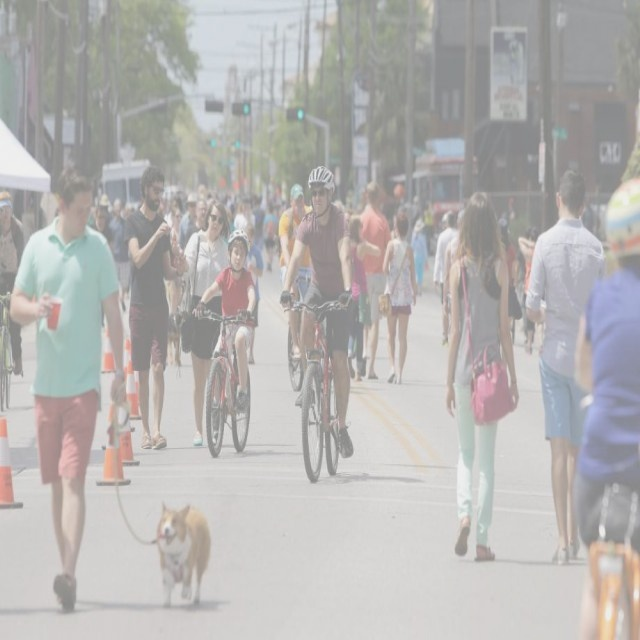pessoa: (7, 158, 128, 618), (520, 166, 611, 570), (573, 174, 639, 639), (441, 188, 522, 564), (276, 162, 356, 462), (122, 162, 187, 454), (170, 196, 238, 452), (190, 224, 258, 448), (375, 210, 418, 388), (358, 180, 392, 383), (277, 182, 314, 362), (345, 210, 383, 383), (0, 185, 27, 378), (496, 217, 522, 380), (432, 208, 460, 349), (517, 226, 542, 356), (242, 221, 264, 366), (161, 184, 212, 246), (517, 225, 542, 348), (107, 196, 132, 314), (223, 190, 264, 248), (88, 192, 147, 231), (409, 218, 430, 296), (260, 202, 278, 272), (92, 204, 115, 254), (422, 198, 437, 256), (333, 198, 355, 232), (273, 197, 289, 217), (210, 189, 223, 203)
